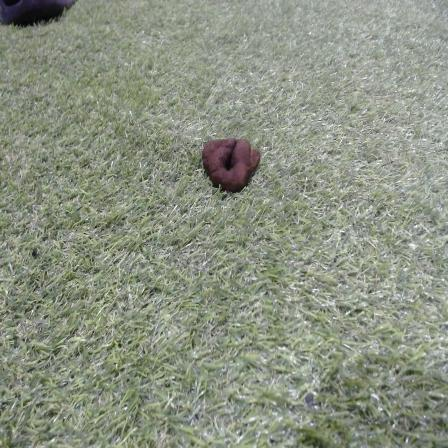dog-poop: (201, 134, 257, 192)
